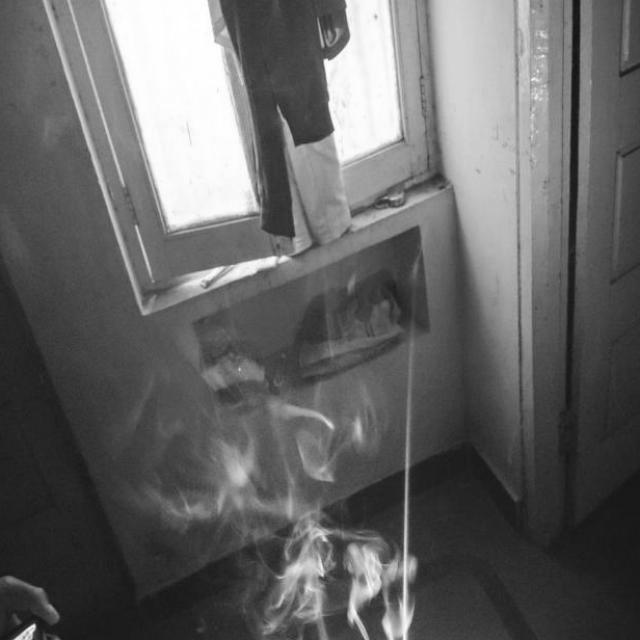fire: (96, 304, 438, 640)
